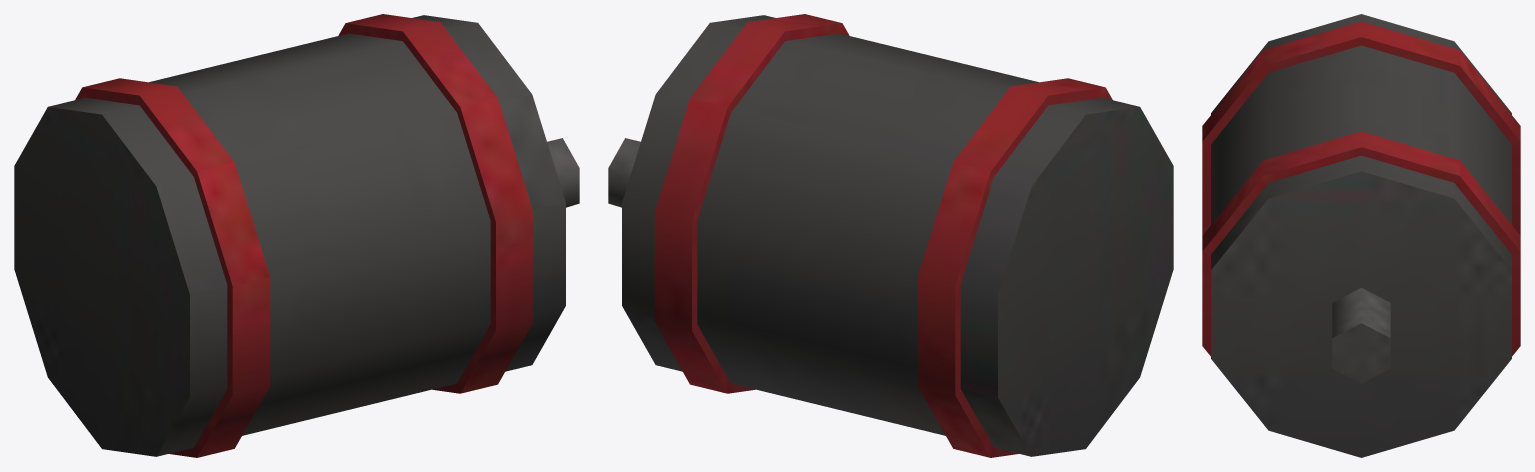
Rendered from electric-engine-unit.glb.
3 views of the same model, side by side, from view 1: azimuth 30°, elevation 25°; view 2: azimuth 150°, elevation 25°; view 3: azimuth 270°, elevation 25° (orthographic). The views are drawn at different scales.
Visible parts, largest first — view 1: electric-engine-unit; view 2: electric-engine-unit; view 3: electric-engine-unit.
Boxes of the visible parts, x1,y1,x2,y2 form: electric-engine-unit: (14,14,579,457); electric-engine-unit: (608,14,1173,457); electric-engine-unit: (1202,14,1520,457).
Bounding box in the file's own units: 0.245 × 0.18 × 0.1712.
1 material, 1 textured.
